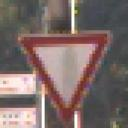preferencia: (13, 28, 119, 126)
